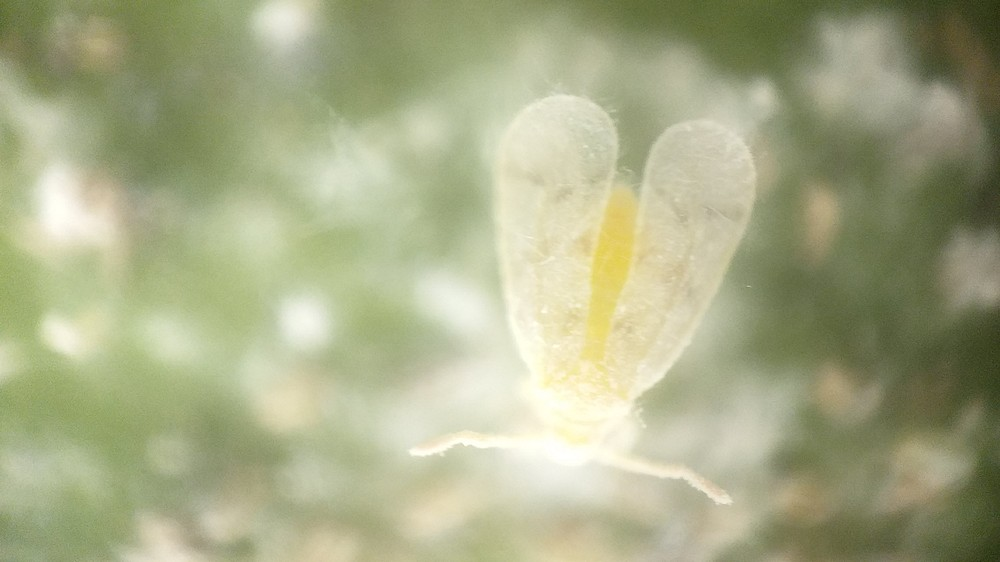Mosca Blanca: (403, 80, 757, 535)
